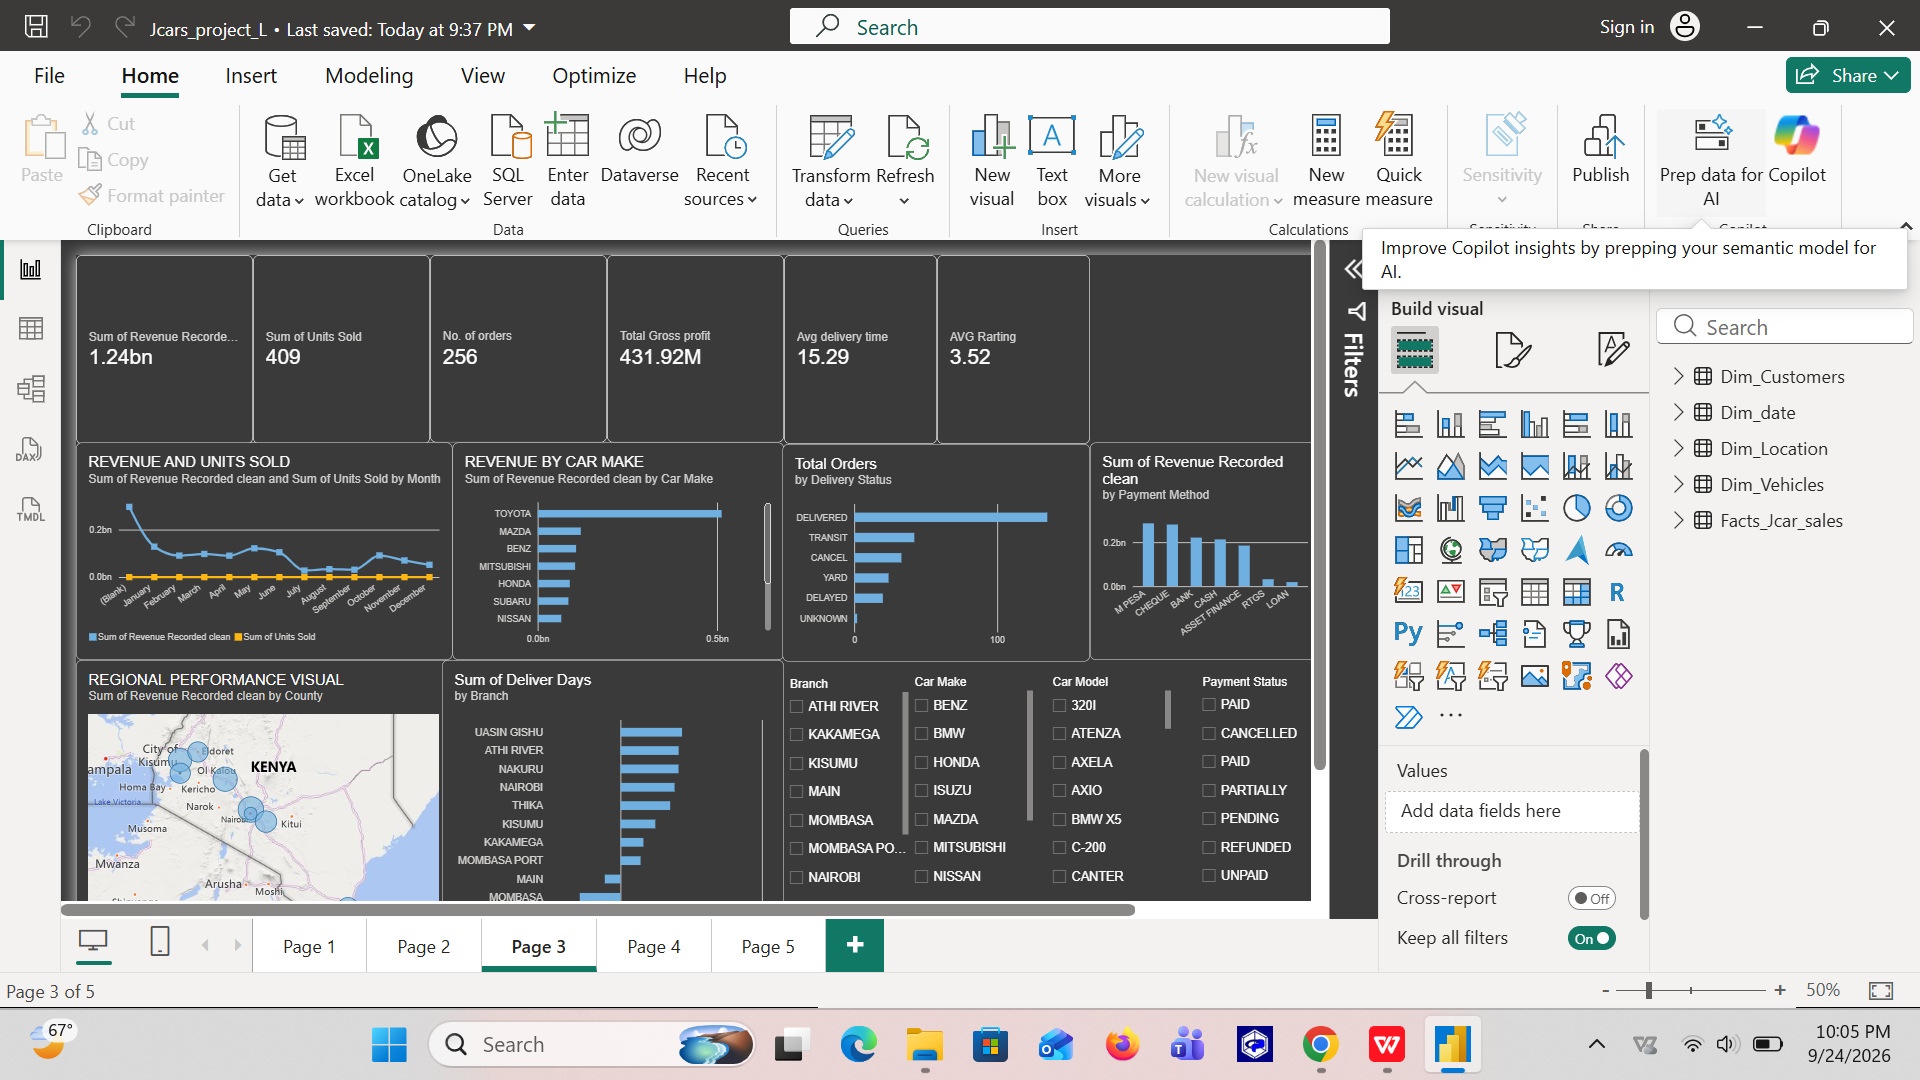

What the dashboard file says about the page in this screenshot:
{"tool":"powerbi","page":{"name":"Page 3","canvas":[1920,1080],"ordinal":2},"visuals":[{"type":"map","title":"REGIONAL PERFORMANCE VISUAL","fields":{"Size":["Sum(Facts_Jcar_sales.Revenue Recorded clean)"],"Category":["Facts_Jcar_sales.County"]},"box":[0,540,502,398],"z":0},{"type":"cardVisual","fields":{"Data":["Sum(Facts_Jcar_sales.Revenue Recorded clean)"]},"box":[0,0,236,252],"z":1},{"type":"cardVisual","fields":{"Data":["Sum(Facts_Jcar_sales.Units Sold)"]},"box":[236,0,236,252],"z":2},{"type":"cardVisual","fields":{"Data":["Dim_Customers.No. of orders"]},"box":[472,0,236,250],"z":3},{"type":"cardVisual","fields":{"Data":["Dim_Customers.Total Gross profit"]},"box":[708,0,236,250],"z":5},{"type":"cardVisual","fields":{"Data":["Dim_Customers.Avg delivery time"]},"box":[944,0,204,252],"z":6},{"type":"cardVisual","fields":{"Data":["Dim_Customers.AVG Rarting"]},"box":[1148,0,204,252],"z":7},{"type":"lineChart","title":"REVENUE AND UNITS SOLD","fields":{"Y":["Sum(Facts_Jcar_sales.Revenue Recorded clean)","Sum(Facts_Jcar_sales.Units Sold)"],"Category":["Facts_Jcar_sales.Order date clean.Variation.Date Hierarchy.Month"]},"box":[0,250,502,290],"z":8},{"type":"barChart","title":"REVENUE BY CAR MAKE","fields":{"Y":["Sum(Facts_Jcar_sales.Revenue Recorded clean)"],"Category":["Facts_Jcar_sales.Car Make"]},"box":[502,250,442,290],"z":9},{"type":"slicer","fields":{"Values":["Facts_Jcar_sales.Branch"]},"box":[944,562,166,290],"z":10},{"type":"slicer","fields":{"Values":["Facts_Jcar_sales.Car Make"]},"box":[1110,560,166,290],"z":11},{"type":"slicer","fields":{"Values":["Facts_Jcar_sales.Payment Status"]},"box":[1494,560,166,290],"z":12},{"type":"slicer","fields":{"Values":["Facts_Jcar_sales.Car Model"]},"box":[1294,560,166,290],"z":13},{"type":"barChart","fields":{"Y":["Dim_Customers.Total Orders"],"Category":["Facts_Jcar_sales.Delivery Status"]},"box":[942,252,410,290],"z":16},{"type":"barChart","fields":{"Y":["Sum(Facts_Jcar_sales.Deliver Days)"],"Category":["Facts_Jcar_sales.Branch"]},"box":[488,540,456,374],"z":17},{"type":"clusteredColumnChart","fields":{"Y":["Sum(Facts_Jcar_sales.Revenue Recorded clean)"],"Category":["Facts_Jcar_sales.Payment Method"]},"box":[1352,250,308,290],"z":18}]}

Visuals, with their boxes on the page's 1920x1080 design canvas (x1, y1, x2, y2). These are canvas units, not pixel positions in the 1920x1080 screenshot, which may show the page scaled, cropped or inside an application window:
"REGIONAL PERFORMANCE VISUAL" map: (0, 540, 502, 938)
cardVisual - Sum(Facts_Jcar_sales.Revenue Recorded clean): (0, 0, 236, 252)
cardVisual - Sum(Facts_Jcar_sales.Units Sold): (236, 0, 472, 252)
cardVisual - Dim_Customers.No. of orders: (472, 0, 708, 250)
cardVisual - Dim_Customers.Total Gross profit: (708, 0, 944, 250)
cardVisual - Dim_Customers.Avg delivery time: (944, 0, 1148, 252)
cardVisual - Dim_Customers.AVG Rarting: (1148, 0, 1352, 252)
"REVENUE AND UNITS SOLD" lineChart: (0, 250, 502, 540)
"REVENUE BY CAR MAKE" barChart: (502, 250, 944, 540)
slicer - Facts_Jcar_sales.Branch: (944, 562, 1110, 852)
slicer - Facts_Jcar_sales.Car Make: (1110, 560, 1276, 850)
slicer - Facts_Jcar_sales.Payment Status: (1494, 560, 1660, 850)
slicer - Facts_Jcar_sales.Car Model: (1294, 560, 1460, 850)
barChart - Dim_Customers.Total Orders x Facts_Jcar_sales.Delivery Status: (942, 252, 1352, 542)
barChart - Sum(Facts_Jcar_sales.Deliver Days) x Facts_Jcar_sales.Branch: (488, 540, 944, 914)
clusteredColumnChart - Sum(Facts_Jcar_sales.Revenue Recorded clean) x Facts_Jcar_sales.Payment Method: (1352, 250, 1660, 540)
